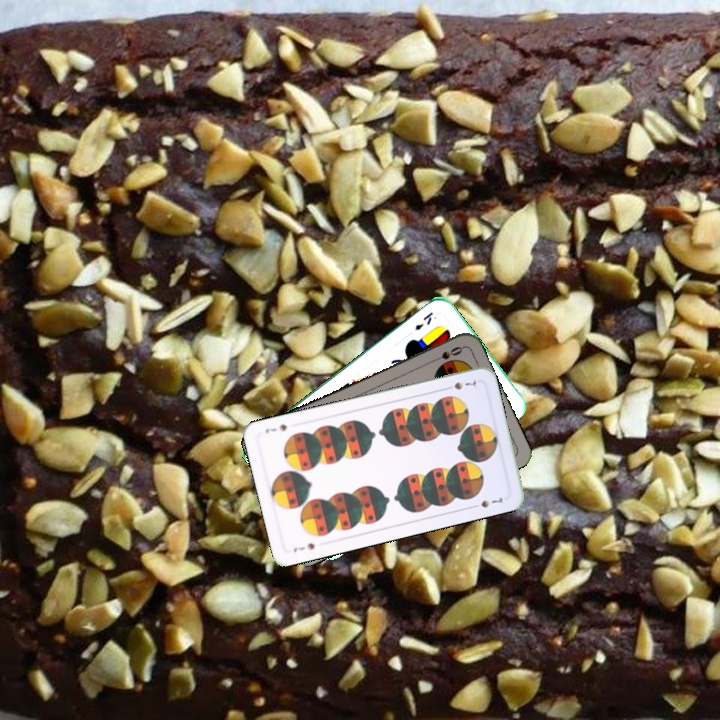EK: (411, 308, 436, 333)
S7: (441, 377, 479, 393), (289, 539, 318, 555)
SO: (427, 342, 466, 365)
